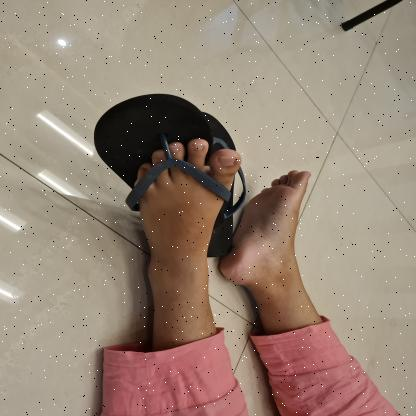leg: (115, 132, 246, 336), (216, 166, 326, 324)
